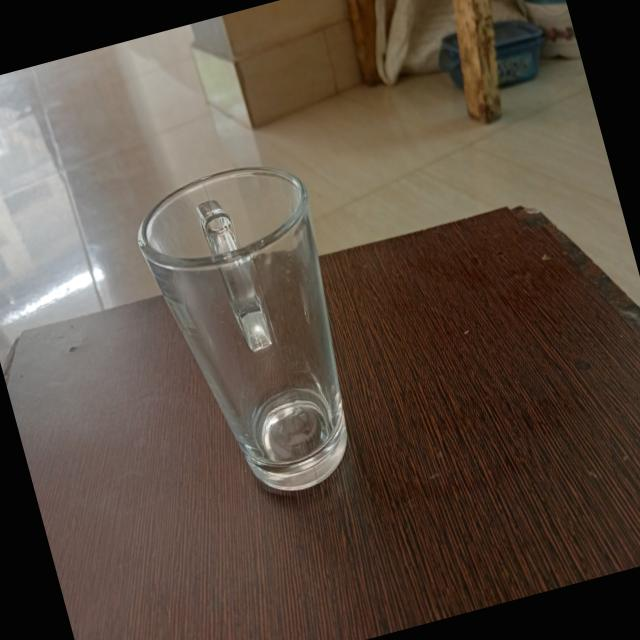glass-VX4N: (127, 151, 380, 511)
